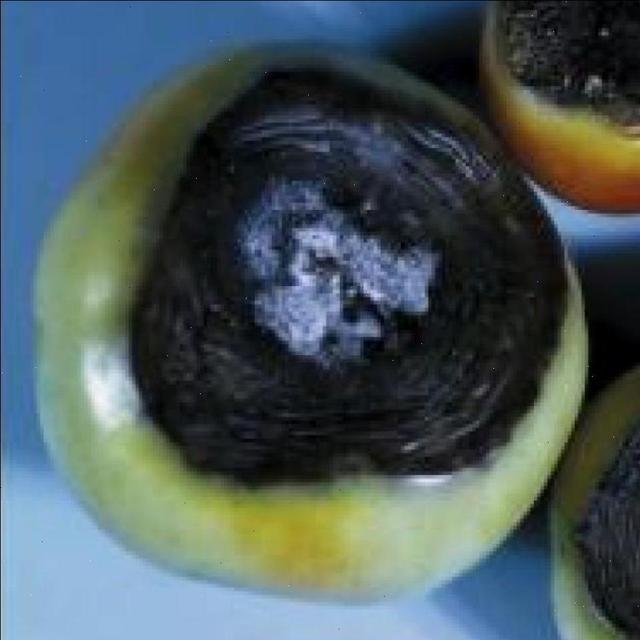Blossom End Rot Fruit: (39, 50, 407, 354)
